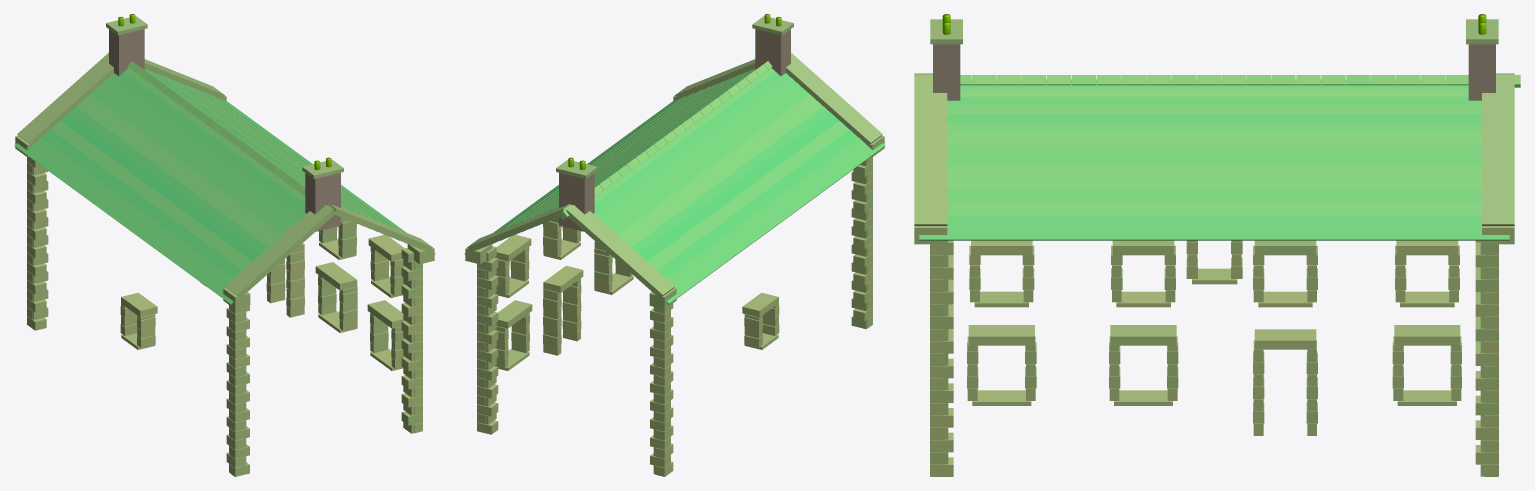
Rendered from SM_Bld_138_Stone.glb.
3 renders of one model, left to right at view 1: azimuth 30°, elevation 25°; view 2: azimuth 150°, elevation 25°; view 3: azimuth 270°, elevation 25°, orthographic. The views are drawn at different scales.
Visible parts, largest first — view 1: SM_Bld_138_Stone; view 2: SM_Bld_138_Stone; view 3: SM_Bld_138_Stone.
Part boxes in pixels (<box>): SM_Bld_138_Stone: <box>14,14,435,476</box>; SM_Bld_138_Stone: <box>464,14,885,476</box>; SM_Bld_138_Stone: <box>914,14,1520,476</box>.
Size of the model in its own units: 7.11 by 9.6 by 13.35.
